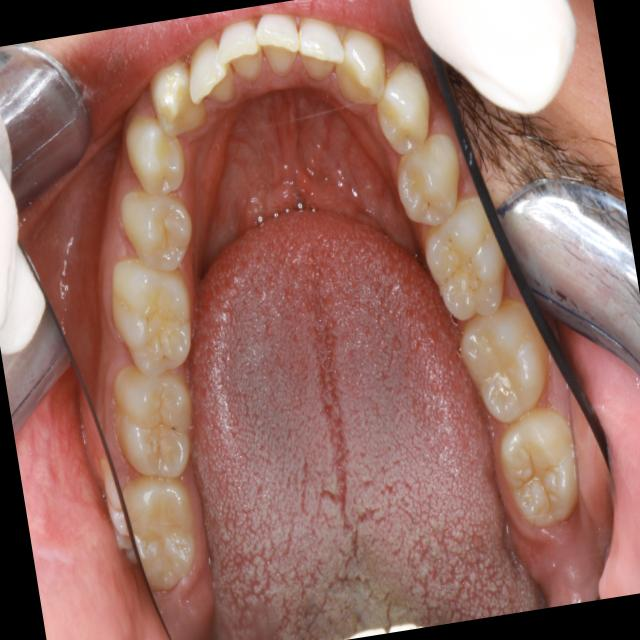tooth: (451, 287, 566, 436), (98, 242, 206, 390), (486, 393, 592, 540), (411, 182, 515, 330), (114, 461, 215, 603), (101, 356, 209, 487), (385, 125, 474, 238), (112, 176, 203, 283), (365, 53, 442, 162), (118, 104, 194, 206), (142, 47, 215, 145), (326, 15, 396, 114), (178, 25, 243, 118), (291, 6, 351, 89), (211, 11, 271, 91), (251, 0, 306, 82)
